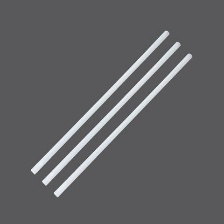drinking_straw: (24, 24, 197, 203)
